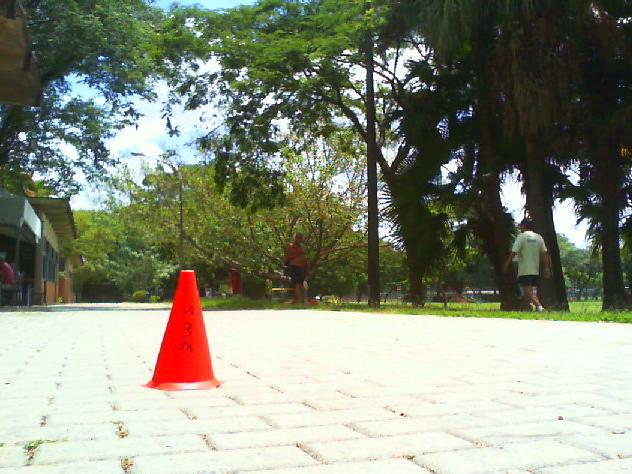0 cone: (143, 270, 225, 391)
